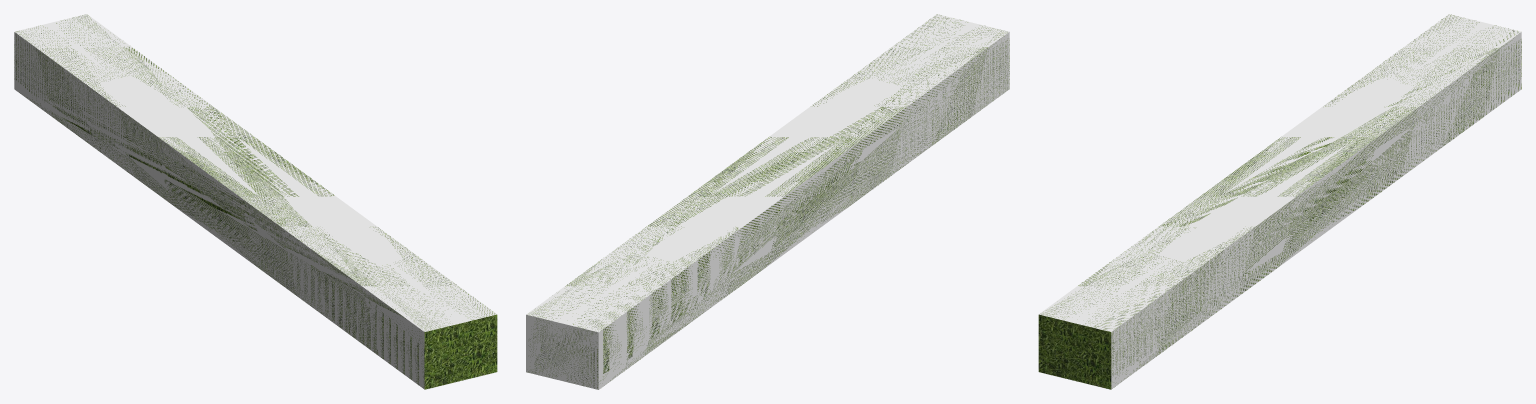
File: Double-Gated-Entry.fbx
3 views of the same model, side by side, from view 1: azimuth 30°, elevation 25°; view 2: azimuth 150°, elevation 25°; view 3: azimuth 330°, elevation 25° (orthographic).
Parts seen in each view (by area): view 1: Model; view 2: Model; view 3: Model.
Part boxes in pixels (left/top/right/bottom): Model: left=14, top=14, right=497, bottom=389; Model: left=526, top=14, right=1009, bottom=389; Model: left=1038, top=14, right=1521, bottom=389.
Size of the model in its own units: 30.75 by 23.25 by 301.
